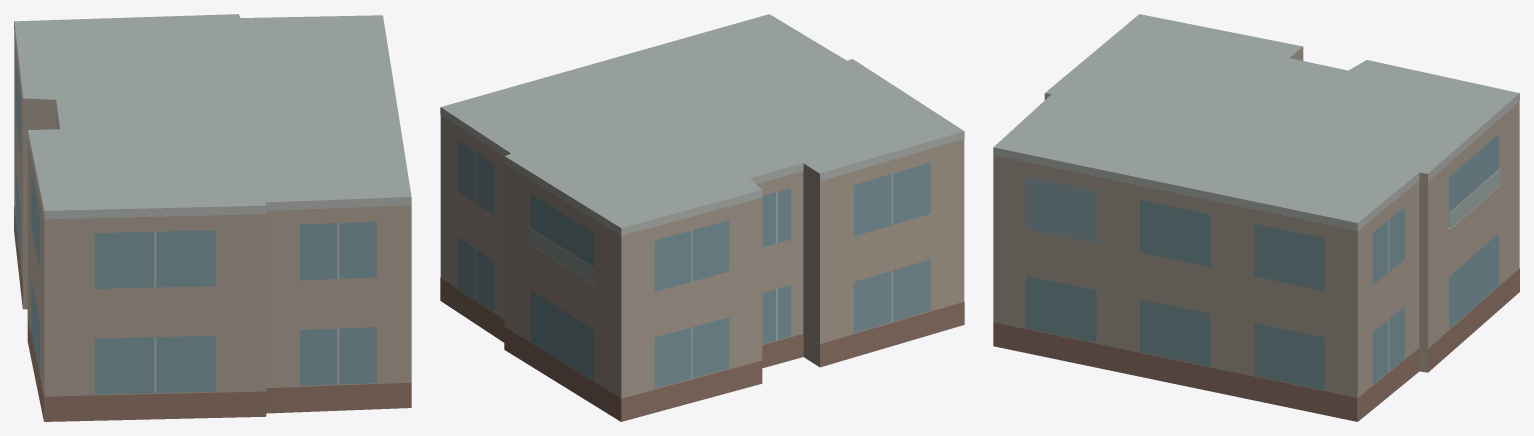
Rendered from survey-upis-33004916.glb.
The picture shows the model from 3 angles, left to right: view 1: azimuth 30°, elevation 25°; view 2: azimuth 150°, elevation 25°; view 3: azimuth 270°, elevation 25°; orthographic projection. The views are drawn at different scales.
Parts seen in each view (by area): view 1: survey-upis-33004916.tmp; view 2: survey-upis-33004916.tmp; view 3: survey-upis-33004916.tmp.
Part boxes in pixels (x1,y1,x2,y2): survey-upis-33004916.tmp: (14, 14, 411, 421); survey-upis-33004916.tmp: (440, 14, 964, 421); survey-upis-33004916.tmp: (993, 14, 1519, 421).
Size of the model in its own units: 13.77 by 6.1 by 14.65.
